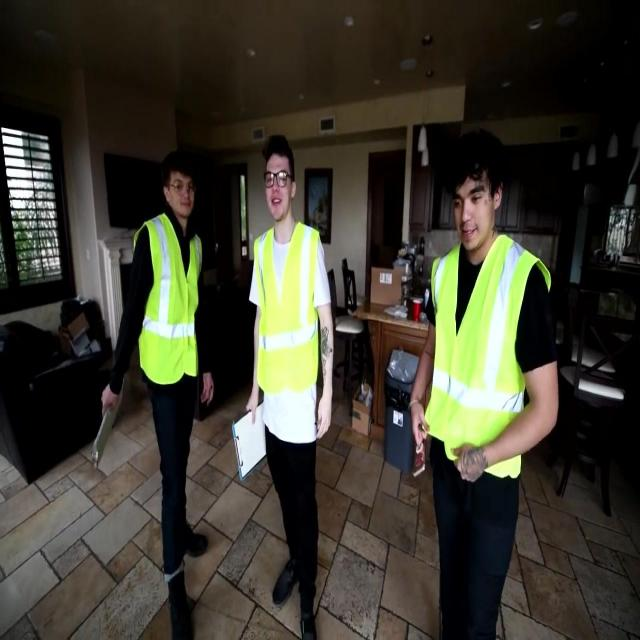Reflective-Jacket: (419, 232, 555, 480), (249, 217, 328, 438), (127, 210, 209, 393)
